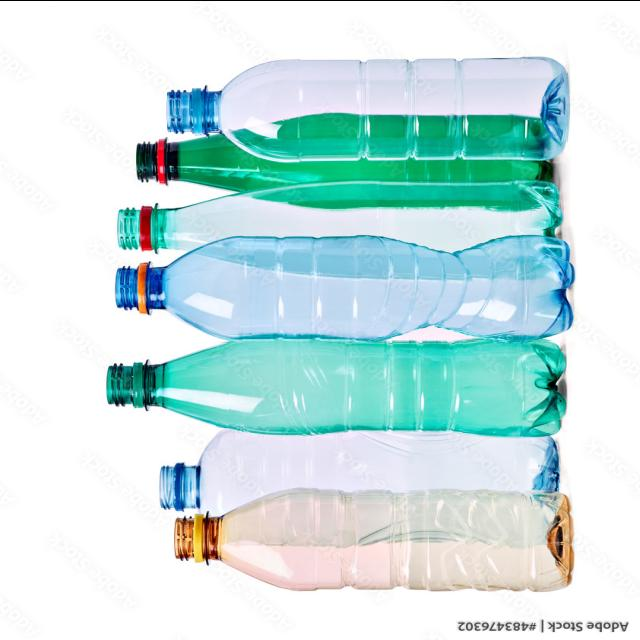bottom: (467, 233, 575, 343), (464, 340, 569, 437), (488, 482, 576, 596), (494, 55, 567, 162), (440, 177, 562, 239), (442, 432, 559, 487)
neck: (167, 59, 358, 137), (171, 484, 286, 586), (103, 342, 229, 426), (116, 239, 213, 333), (158, 428, 229, 515), (113, 198, 216, 250), (131, 133, 225, 189)
